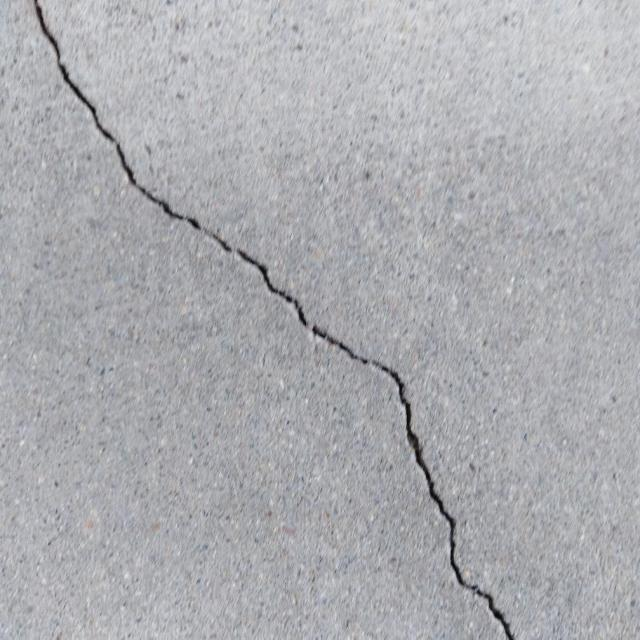diagonal crack: (30, 0, 515, 639)
